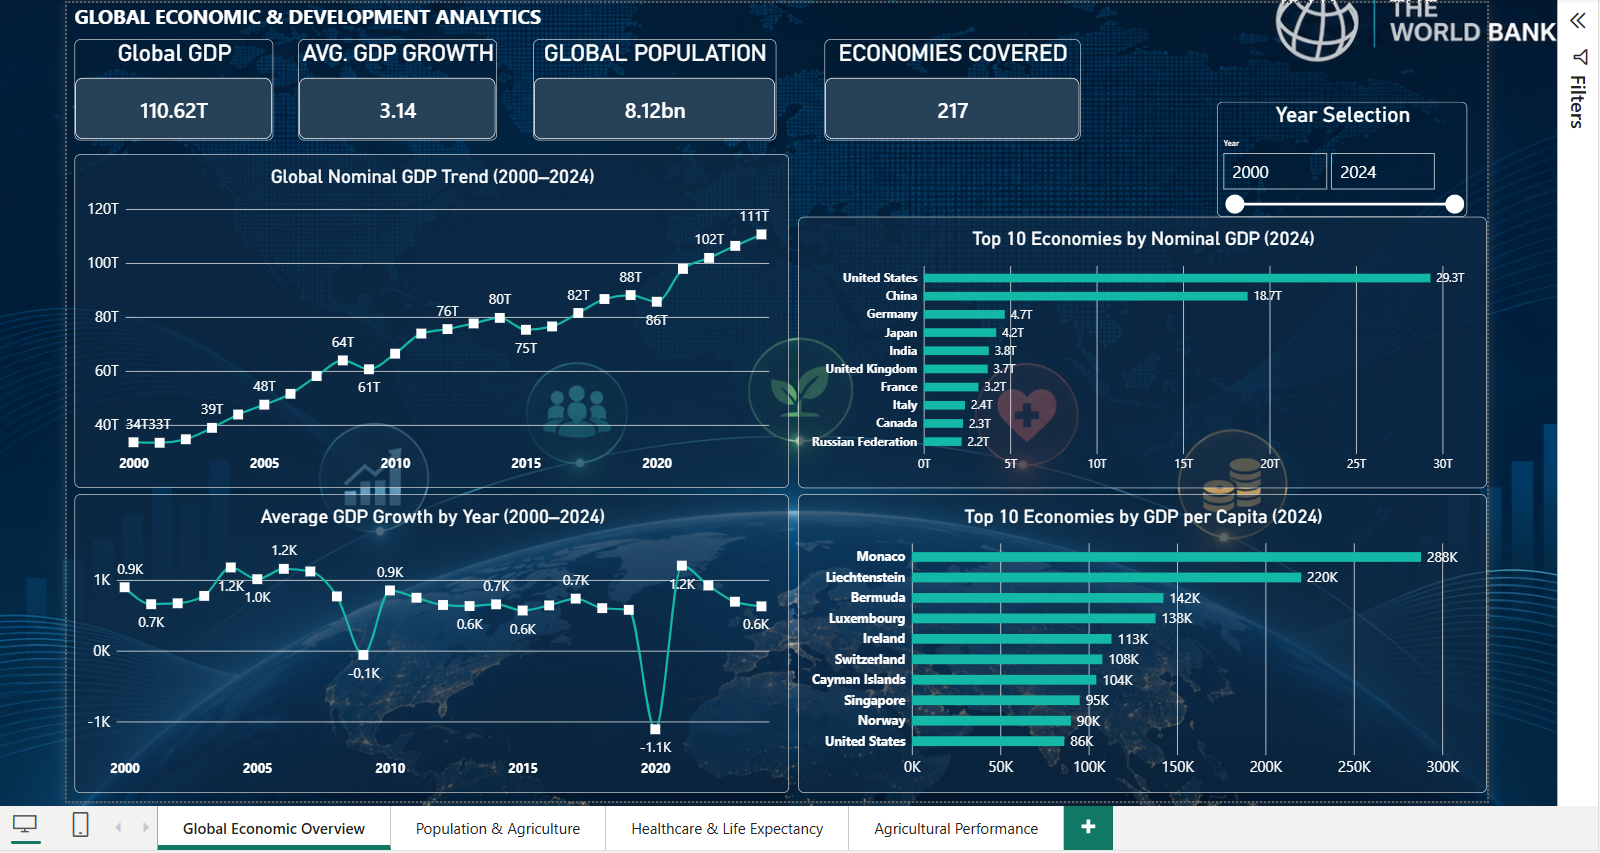

What the dashboard file says about the page in this screenshot:
{"tool":"powerbi","page":{"name":"\tGlobal Economic Overview","canvas":[1920,1080],"ordinal":0},"visuals":[{"type":"textbox","box":[10.4,0,689.3,49.8],"z":0},{"type":"cardVisual","title":"Global GDP","fields":{"Data":["worldbank_global_cleaned.Total GDP"]},"box":[10.5,49.2,268.8,137],"z":1000},{"type":"cardVisual","title":"\tAVG. GDP GROWTH","fields":{"Data":["worldbank_global_cleaned.Average GDP Growth"]},"box":[312.7,49.2,268.8,137],"z":2000},{"type":"cardVisual","title":"\tECONOMIES COVERED","fields":{"Data":["worldbank_global_cleaned.Total Economies"]},"box":[1024.3,49.2,346.1,137],"z":3000},{"type":"cardVisual","title":"GLOBAL POPULATION","fields":{"Data":["worldbank_global_cleaned.Total Population"]},"box":[630.7,49.2,328.6,137],"z":4000},{"type":"lineChart","title":"Global Nominal GDP Trend (2000–2024)","fields":{"Category":["worldbank_global_cleaned.Year"],"Y":["Sum(worldbank_global_cleaned.Value)"]},"box":[10.5,203.8,966.3,451.5],"z":5000},{"type":"clusteredBarChart","title":"\tTop 10 Economies by Nominal GDP (2024)","fields":{"Category":["worldbank_global_cleaned.Country_Name"],"Y":["Sum(worldbank_global_cleaned.Value)"]},"box":[989.2,289.9,931.2,367.2],"z":6000},{"type":"lineChart","title":"\tAverage GDP Growth by Year (2000–2024)","fields":{"Category":["worldbank_global_cleaned.Year"],"Y":["Sum(worldbank_global_cleaned.Value)"]},"box":[10.5,664.1,966.3,404.1],"z":7000},{"type":"clusteredBarChart","title":"\tTop 10 Economies by GDP per Capita (2024)","fields":{"Category":["worldbank_global_cleaned.Country_Name"],"Y":["Sum(worldbank_global_cleaned.Value)"]},"box":[989,664.4,931.6,404.1],"z":8000},{"type":"slicer","title":"\tYear Selection","fields":{"Values":["worldbank_global_cleaned.Year"]},"box":[1556.1,133.3,338.6,156.1],"z":9000}]}

Visuals, with their boxes on the page's 1920x1080 design canvas (x1, y1, x2, y2). These are canvas units, not pixel positions in the 1600x853 screenshot, which may show the page scaled, cropped or inside an application window:
textbox: x1=10, y1=0, x2=700, y2=50
"Global GDP" cardVisual: x1=10, y1=49, x2=279, y2=186
"	AVG. GDP GROWTH" cardVisual: x1=313, y1=49, x2=582, y2=186
"	ECONOMIES COVERED" cardVisual: x1=1024, y1=49, x2=1370, y2=186
"GLOBAL POPULATION" cardVisual: x1=631, y1=49, x2=959, y2=186
"Global Nominal GDP Trend (2000–2024)" lineChart: x1=10, y1=204, x2=977, y2=655
"	Top 10 Economies by Nominal GDP (2024)" clusteredBarChart: x1=989, y1=290, x2=1920, y2=657
"	Average GDP Growth by Year (2000–2024)" lineChart: x1=10, y1=664, x2=977, y2=1068
"	Top 10 Economies by GDP per Capita (2024)" clusteredBarChart: x1=989, y1=664, x2=1921, y2=1068
"	Year Selection" slicer: x1=1556, y1=133, x2=1895, y2=289
